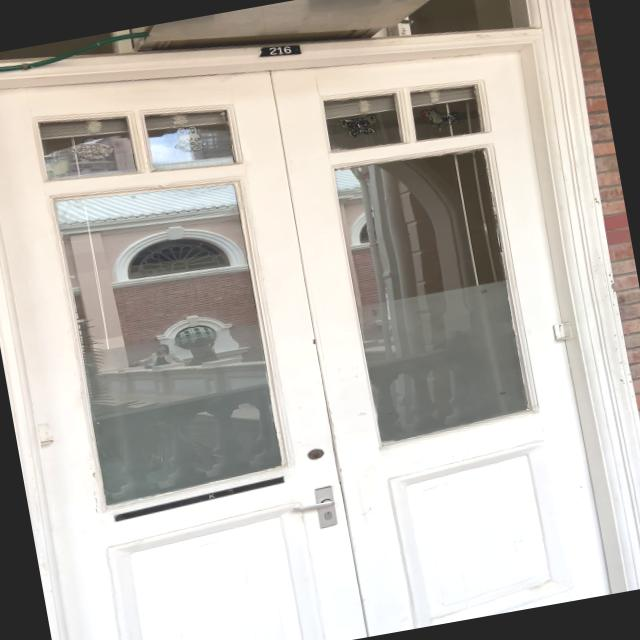room216: (250, 35, 306, 63)
